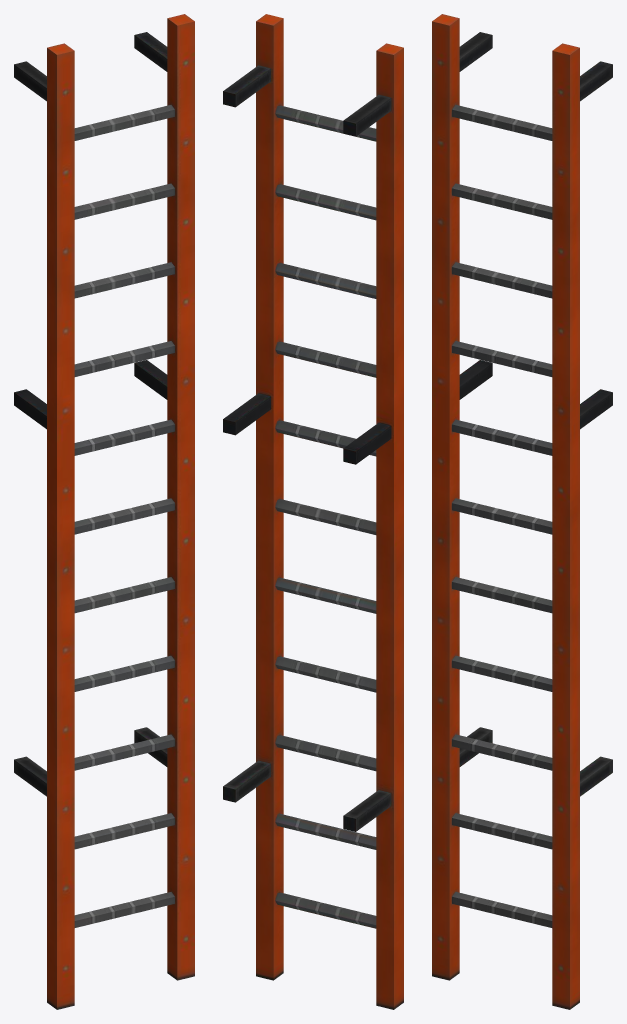
The model's file is ladder.glb.
3 views of the same model, side by side, from view 1: azimuth 30°, elevation 25°; view 2: azimuth 150°, elevation 25°; view 3: azimuth 330°, elevation 25° (orthographic).
Visible parts, largest first — view 1: ladder; view 2: ladder; view 3: ladder.
Boxes of the visible parts, box(x1,y1,x2,y2) form: ladder: box(14, 14, 194, 1009); ladder: box(223, 14, 403, 1009); ladder: box(432, 14, 612, 1009).
Size of the model in its own units: 0.55 by 3.64 by 0.315.
Materials: 1 (1 with a texture image).
